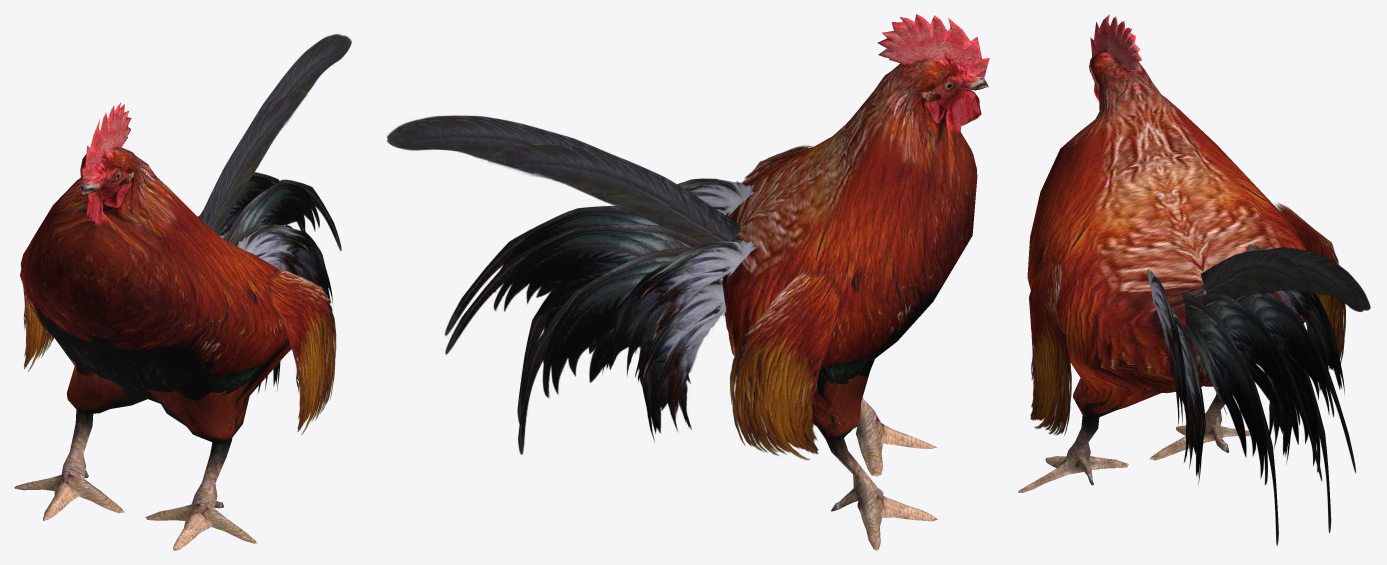
The model's file is chicken.glb.
3 views of the same model, side by side, from view 1: azimuth 30°, elevation 25°; view 2: azimuth 150°, elevation 25°; view 3: azimuth 270°, elevation 25° (orthographic). The views are drawn at different scales.
Parts seen in each view (by area): view 1: chiken; view 2: chiken; view 3: chiken.
Part boxes in pixels (<box>): chiken: <box>14,34,351,550</box>; chiken: <box>386,14,989,550</box>; chiken: <box>1018,14,1370,545</box>.
Bounding box in the file's own units: 45.22 × 44.19 × 33.09.
2 materials, 2 textured.
